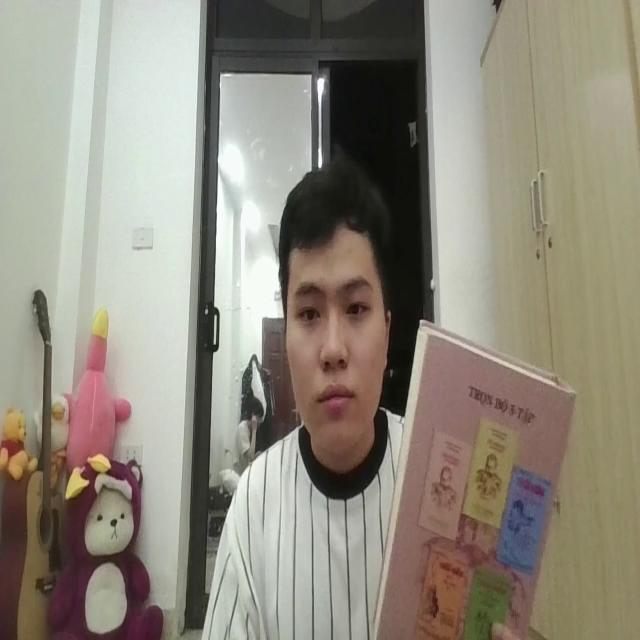book: (379, 308, 575, 640)
student: (202, 142, 410, 640)
